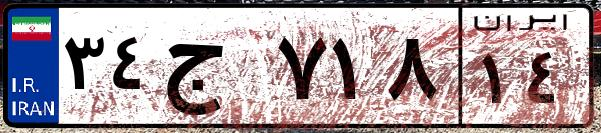1: (330, 28, 385, 110), (475, 38, 525, 113)
3: (57, 26, 110, 100)
4: (525, 38, 570, 115), (110, 28, 158, 98)
7: (270, 28, 330, 110)
8: (385, 28, 445, 110)
ج: (158, 20, 270, 120)
